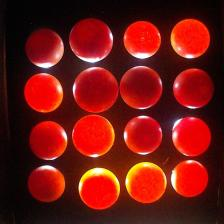fertile: (72, 66, 118, 113), (69, 18, 113, 63), (119, 65, 162, 110), (173, 68, 214, 108), (25, 28, 64, 68), (29, 120, 68, 160), (124, 115, 163, 155), (28, 165, 66, 203)
infertile: (72, 114, 115, 158), (78, 167, 120, 209), (125, 162, 167, 203), (171, 18, 210, 59), (24, 73, 64, 112), (172, 117, 211, 157), (124, 20, 161, 59), (171, 160, 208, 196)
